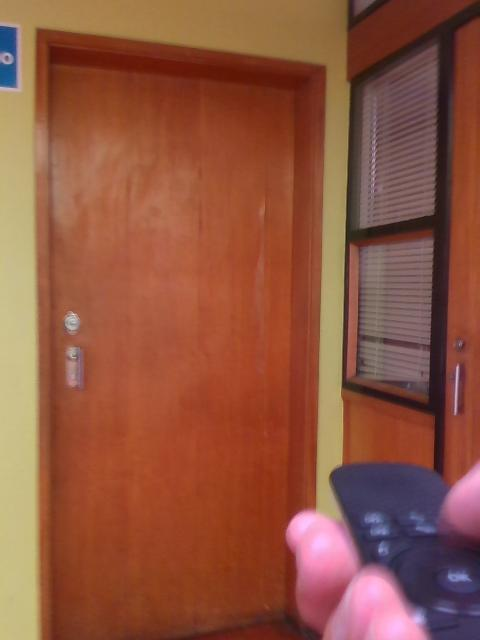door: (49, 57, 297, 639)
